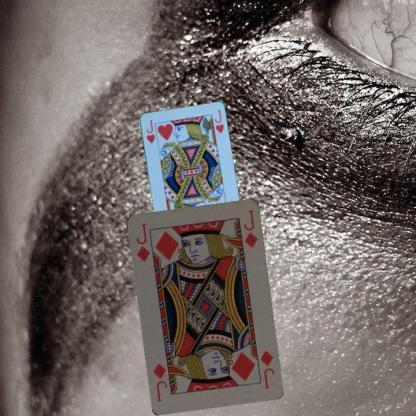Jd: (257, 347, 276, 390), (134, 221, 152, 264)
Jh: (143, 118, 156, 144)
